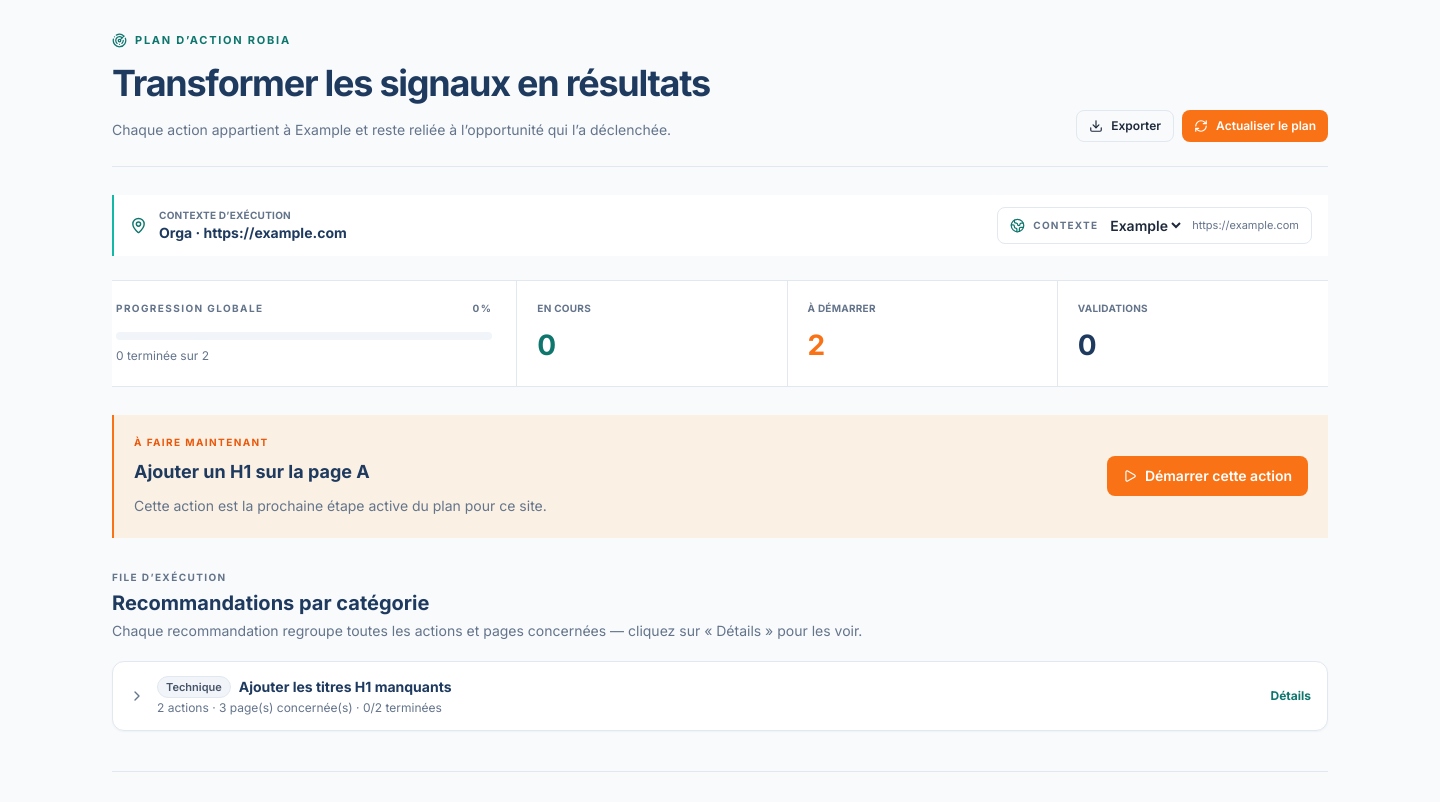
PageExecution — actions grouped by recommendation, not one flat list › reveals the individual action cards after clicking "Détails"
Click the button "Ajouter les titres H1 manquants" at (194, 687), box [113,662,1327,730]
(page scrolled)
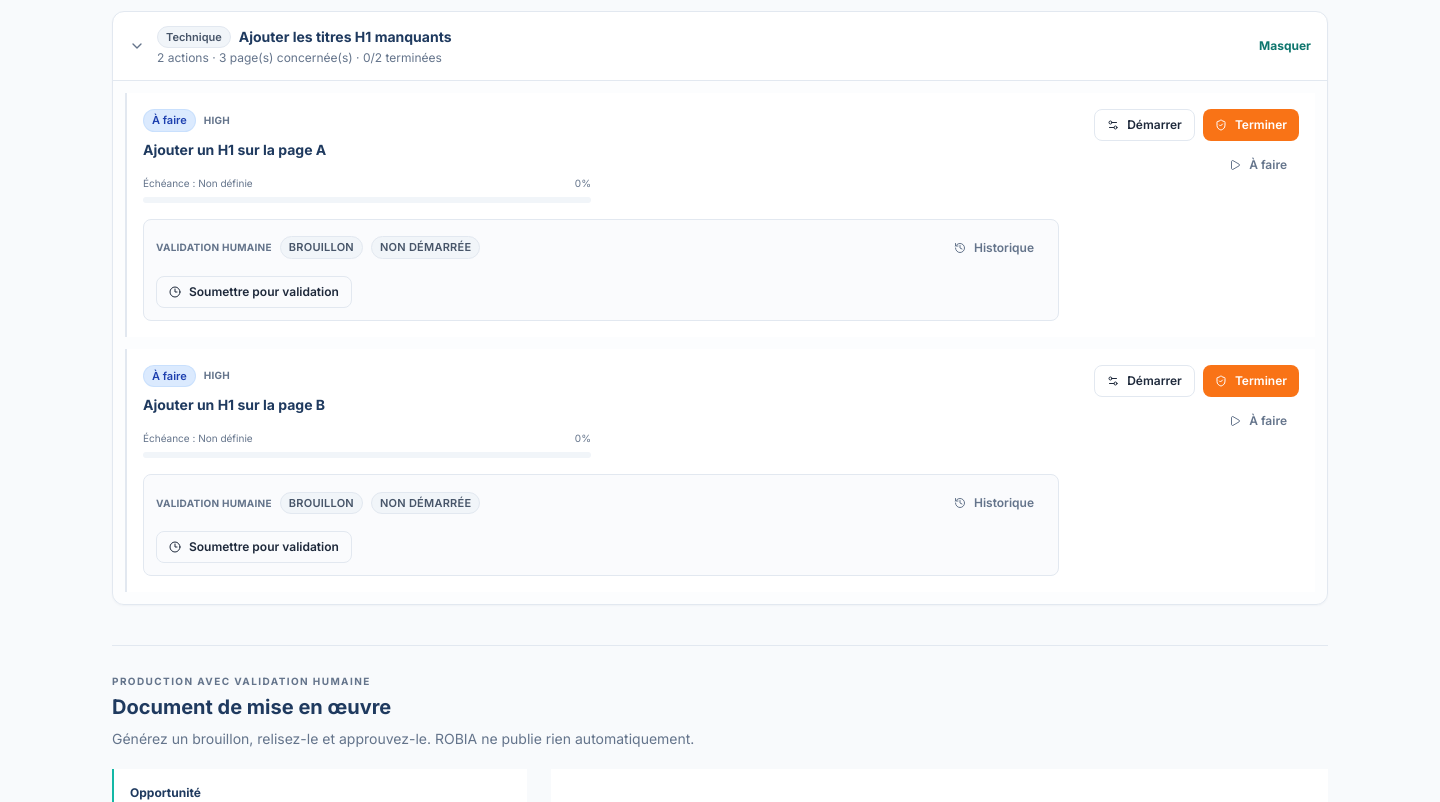
Result: the heading "Ajouter un H1 sur la page A" is shown at [143,140,326,158]
Result: the heading "Ajouter un H1 sur la page B" is shown at [143,396,325,413]
